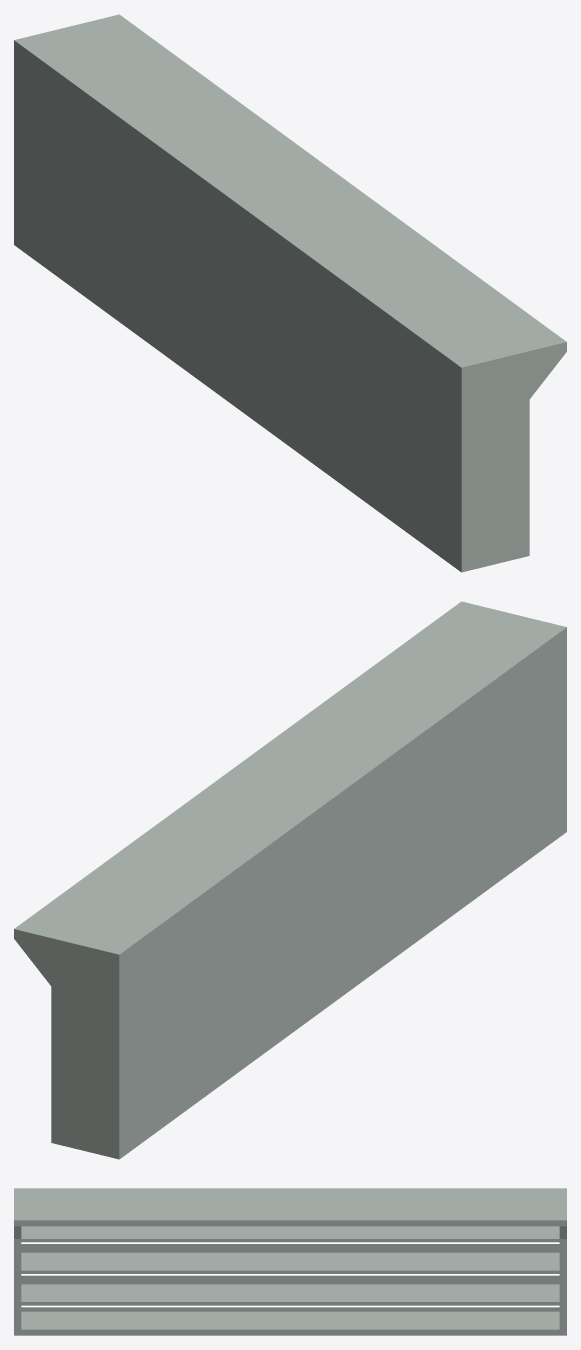
File: refrigeratedShelves_EMBED.fbx
The picture shows the model from 3 angles, top to bottom: view 1: azimuth 30°, elevation 25°; view 2: azimuth 150°, elevation 25°; view 3: azimuth 270°, elevation 25°; orthographic projection. The views are drawn at different scales.
Visible parts, largest first — view 1: Light_5.002; view 2: Light_5.002; view 3: Light_5.002.
Boxes of the visible parts, x1,y1,x2,y2 form: Light_5.002: (14,14,566,572); Light_5.002: (14,601,566,1159); Light_5.002: (14,1188,566,1335).
Bounding box in the file's own units: 533 × 990 × 3919.
Materials: 2 (1 with a texture image).
